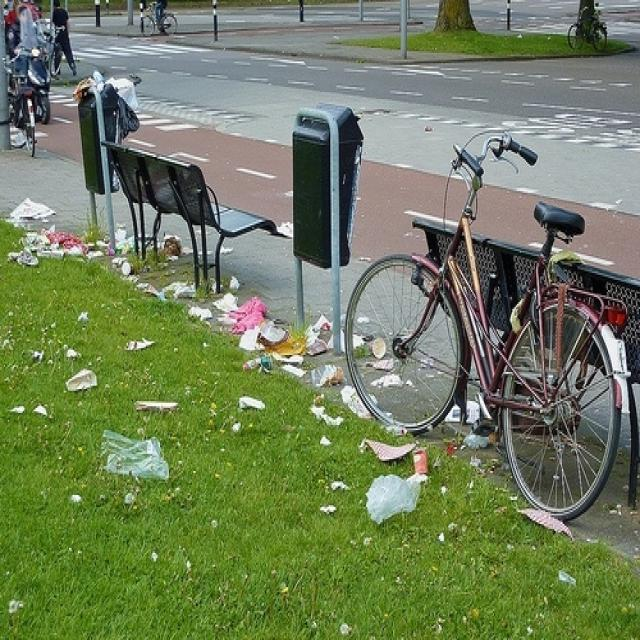Metal: (344, 139, 627, 548), (279, 87, 366, 367)
